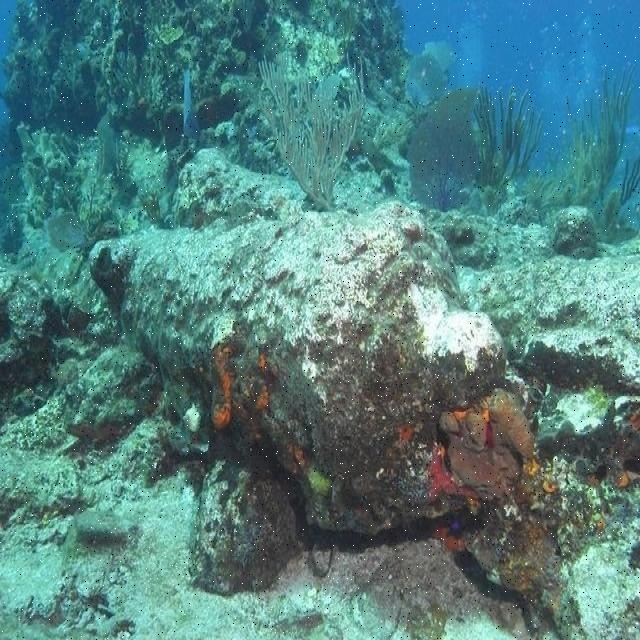aquatic plants: (517, 68, 639, 240), (257, 56, 365, 212), (402, 42, 478, 209), (474, 88, 544, 208)
sea-floor: (0, 0, 639, 638)
